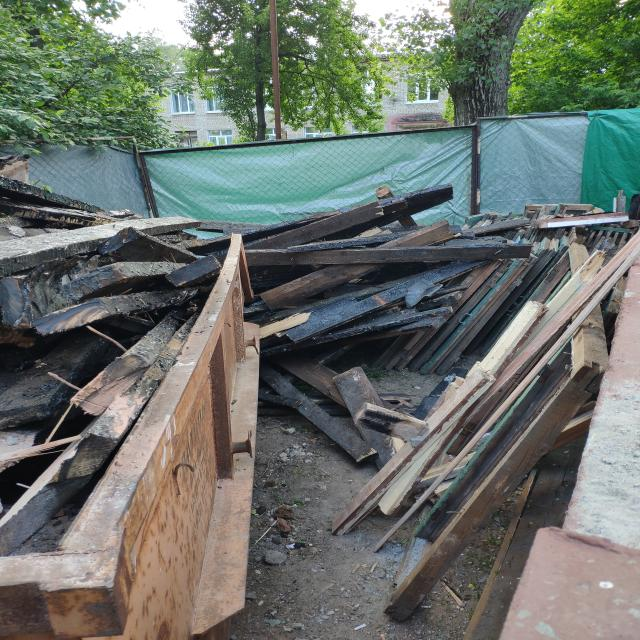entulho: (340, 229, 638, 536), (392, 237, 598, 626), (0, 299, 154, 554), (409, 226, 580, 376), (22, 229, 213, 347), (269, 259, 472, 366), (241, 182, 474, 258), (66, 329, 174, 492), (2, 211, 209, 283), (0, 175, 210, 240), (277, 360, 381, 463), (328, 364, 411, 464), (483, 202, 622, 237)
